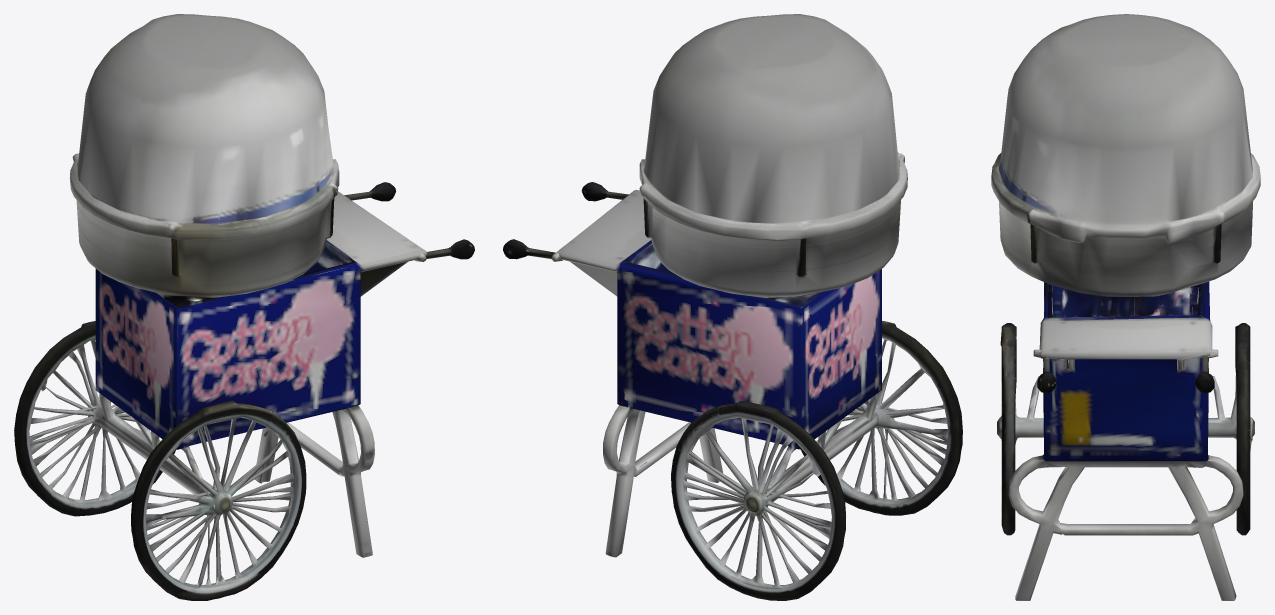
The model's file is CANDY_FLOSS_MACHINE_5FtTall_0222030804_texture.glb.
The picture shows the model from 3 angles, left to right: view 1: azimuth 30°, elevation 25°; view 2: azimuth 150°, elevation 25°; view 3: azimuth 270°, elevation 25°; orthographic projection.
Parts seen in each view (by area): view 1: Mesh_0.001; view 2: Mesh_0.001; view 3: Mesh_0.001.
Boxes of the visible parts, x1,y1,x2,y2 form: Mesh_0.001: [14, 14, 474, 600]; Mesh_0.001: [503, 14, 962, 600]; Mesh_0.001: [991, 14, 1260, 600].
Size of the model in its own units: 1.14 by 1.52 by 0.7354.
Materials: 1 (1 with a texture image).
